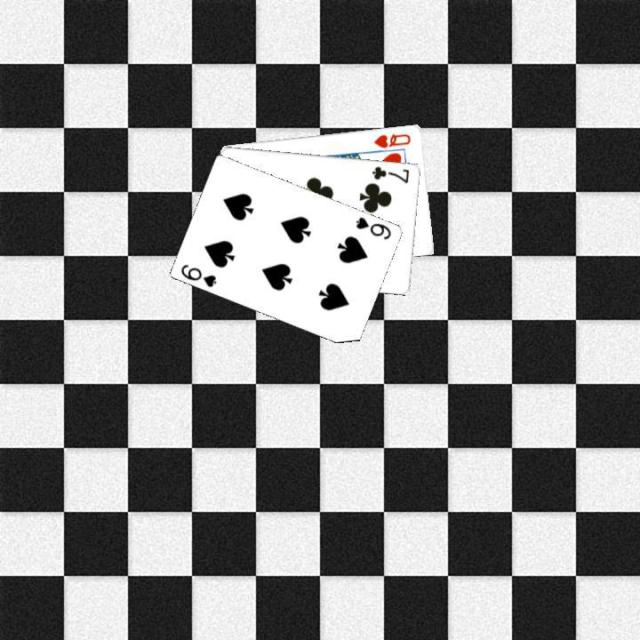6S: (177, 260, 219, 289), (352, 212, 393, 241)
7C: (369, 162, 411, 185)
QH: (370, 130, 412, 149)
